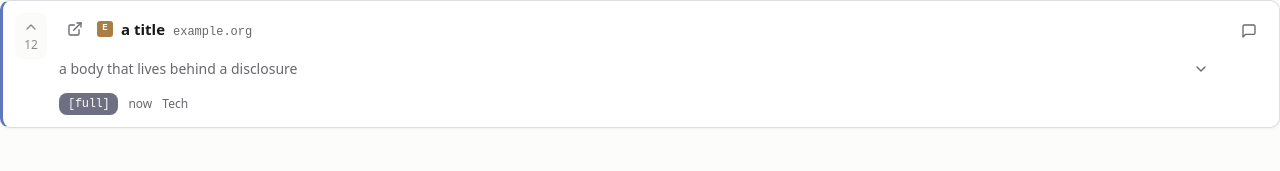
Test: LinkCard › drives the body expando from a real button with aria-expanded
The image size is (1280, 171).
Step 1. Click the button named "expand" → (1201, 69), box [1183,51,1219,87]
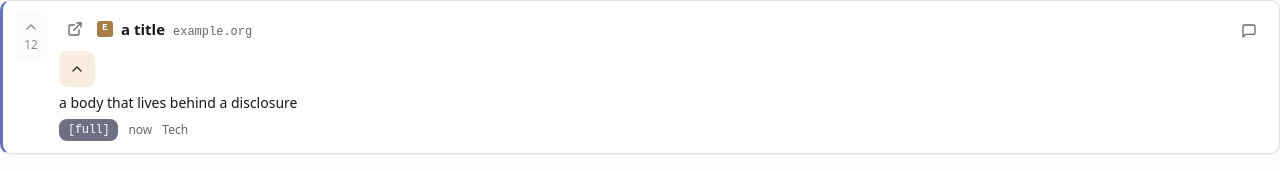
Expected: the element showing "a body that lives behind a disclosure" is shown, [59,93,298,112]
Result: the button named "collapse" is expanded at [59,51,95,87]
